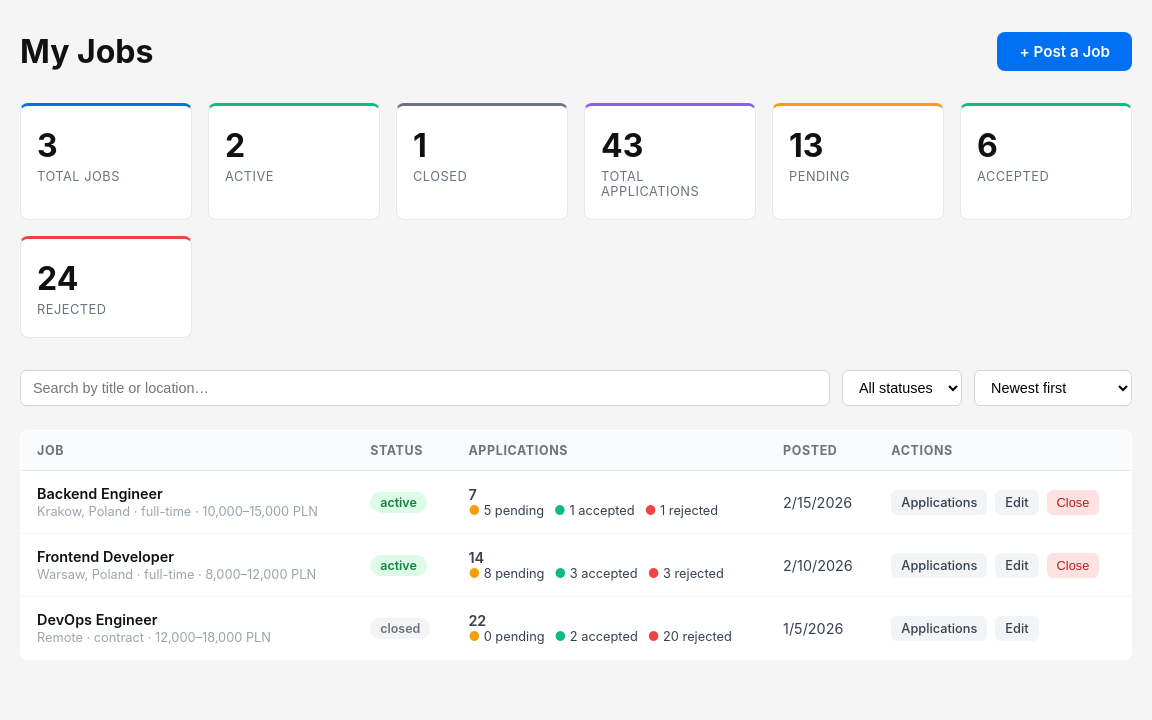
Test case: MyJobsPage › filters by status active
The width and height of the screenshot is (1152, 720).
Select "Active" in the 1st dropdown showing "All statuses": [902, 388] box [842,370,962,406]
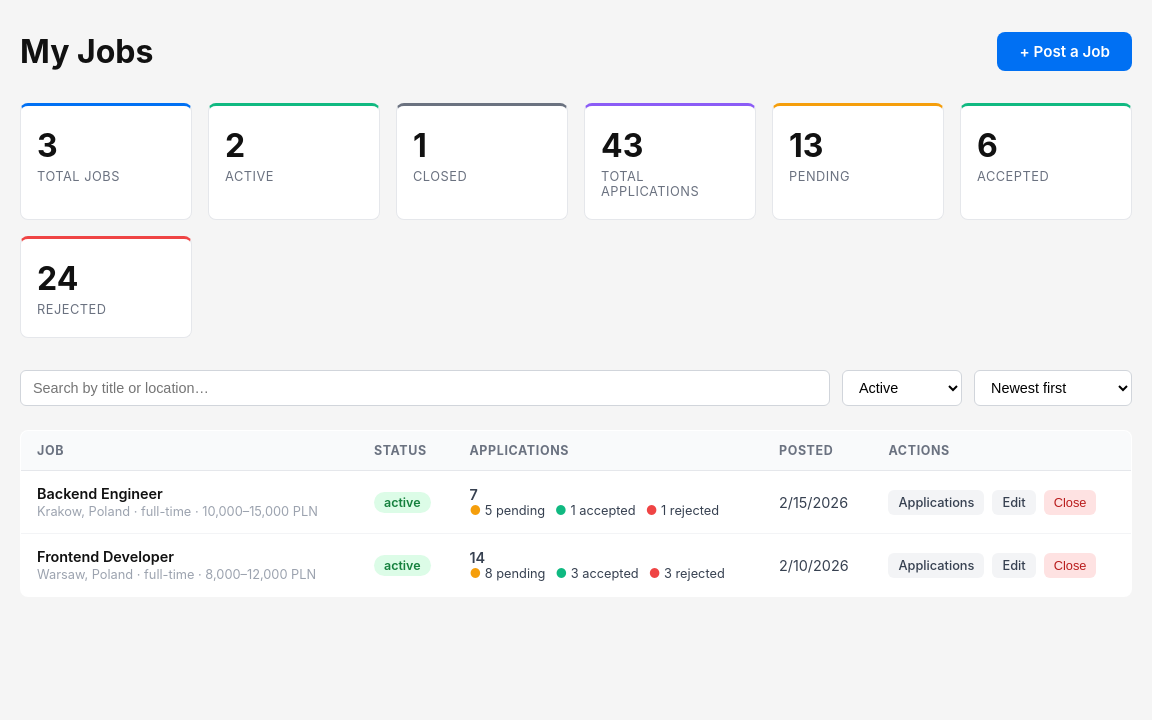
Check: the text "Frontend Developer" is shown, box [37,548,174,565]
Check: the text "DevOps Engineer" is gone
